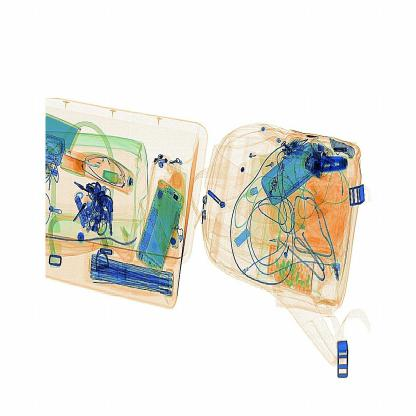scissors: (305, 148, 356, 181)
